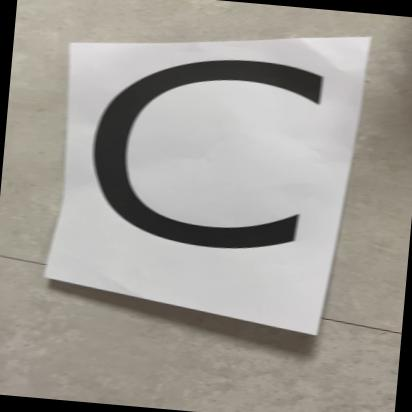seat: (52, 10, 360, 334)
